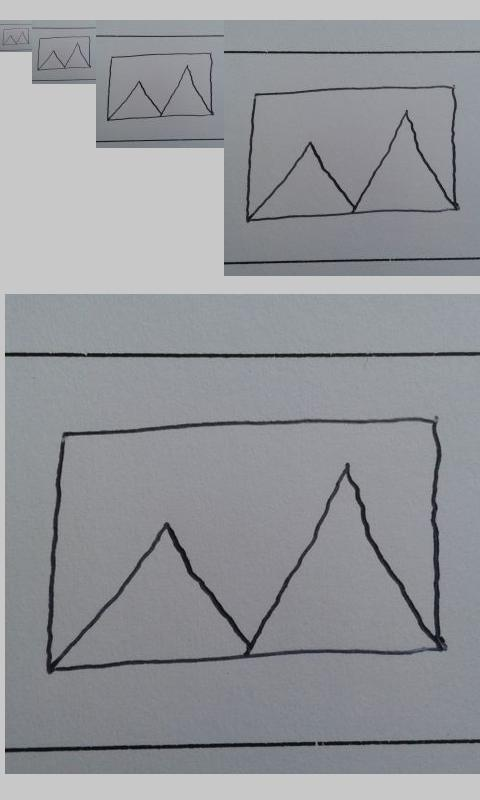image_view: (45, 413, 445, 675), (245, 83, 459, 222), (107, 52, 214, 122), (37, 35, 91, 71), (2, 27, 30, 46)
